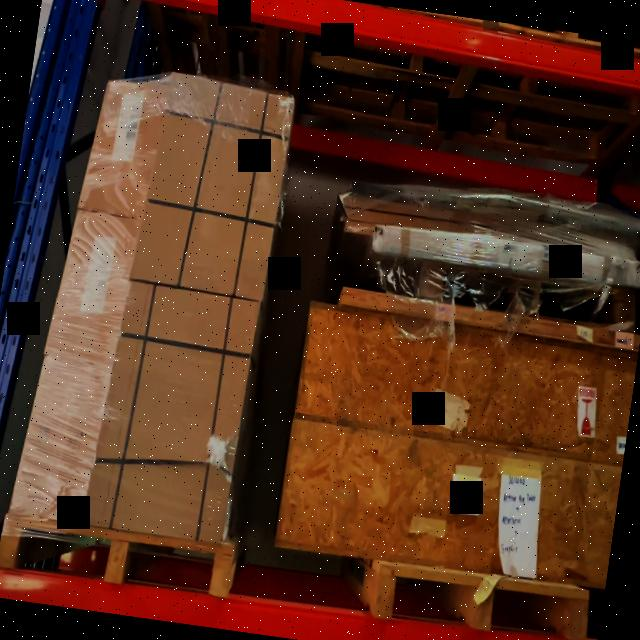box: (98, 280, 255, 542), (142, 81, 292, 296), (24, 358, 104, 520), (57, 210, 134, 364), (90, 78, 162, 215)
